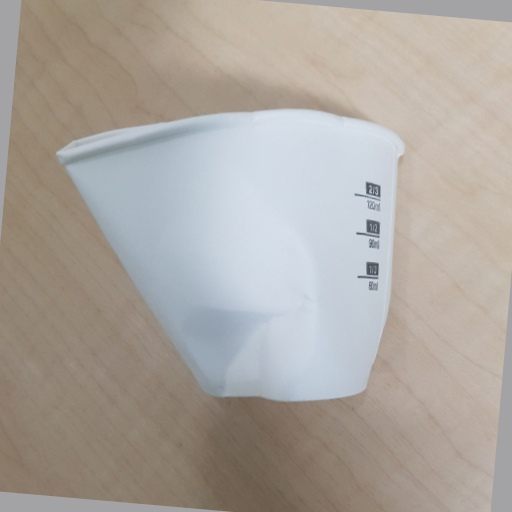Paper_1: (55, 110, 409, 399)
